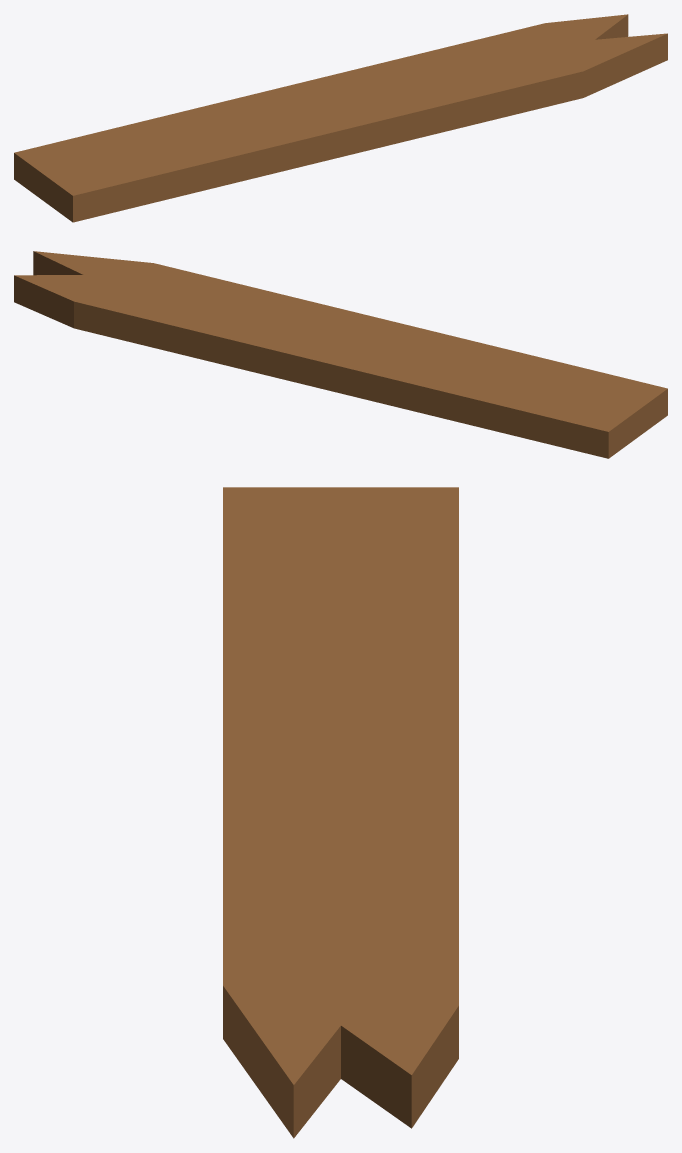
The model's file is fx_plank.glb.
3 renders of one model, top to bottom at view 1: azimuth 30°, elevation 25°; view 2: azimuth 150°, elevation 25°; view 3: azimuth 270°, elevation 25°, orthographic. The views are drawn at different scales.
Visible parts, largest first — view 1: fx_plank__mesh; view 2: fx_plank__mesh; view 3: fx_plank__mesh.
Part boxes in pixels (<box>): fx_plank__mesh: <box>14,14,667,222</box>; fx_plank__mesh: <box>14,251,667,458</box>; fx_plank__mesh: <box>223,487,458,1138</box>.
Size of the model in its own units: 0.6 by 0.025 by 0.1.
Materials: 1 (1 with a texture image).
